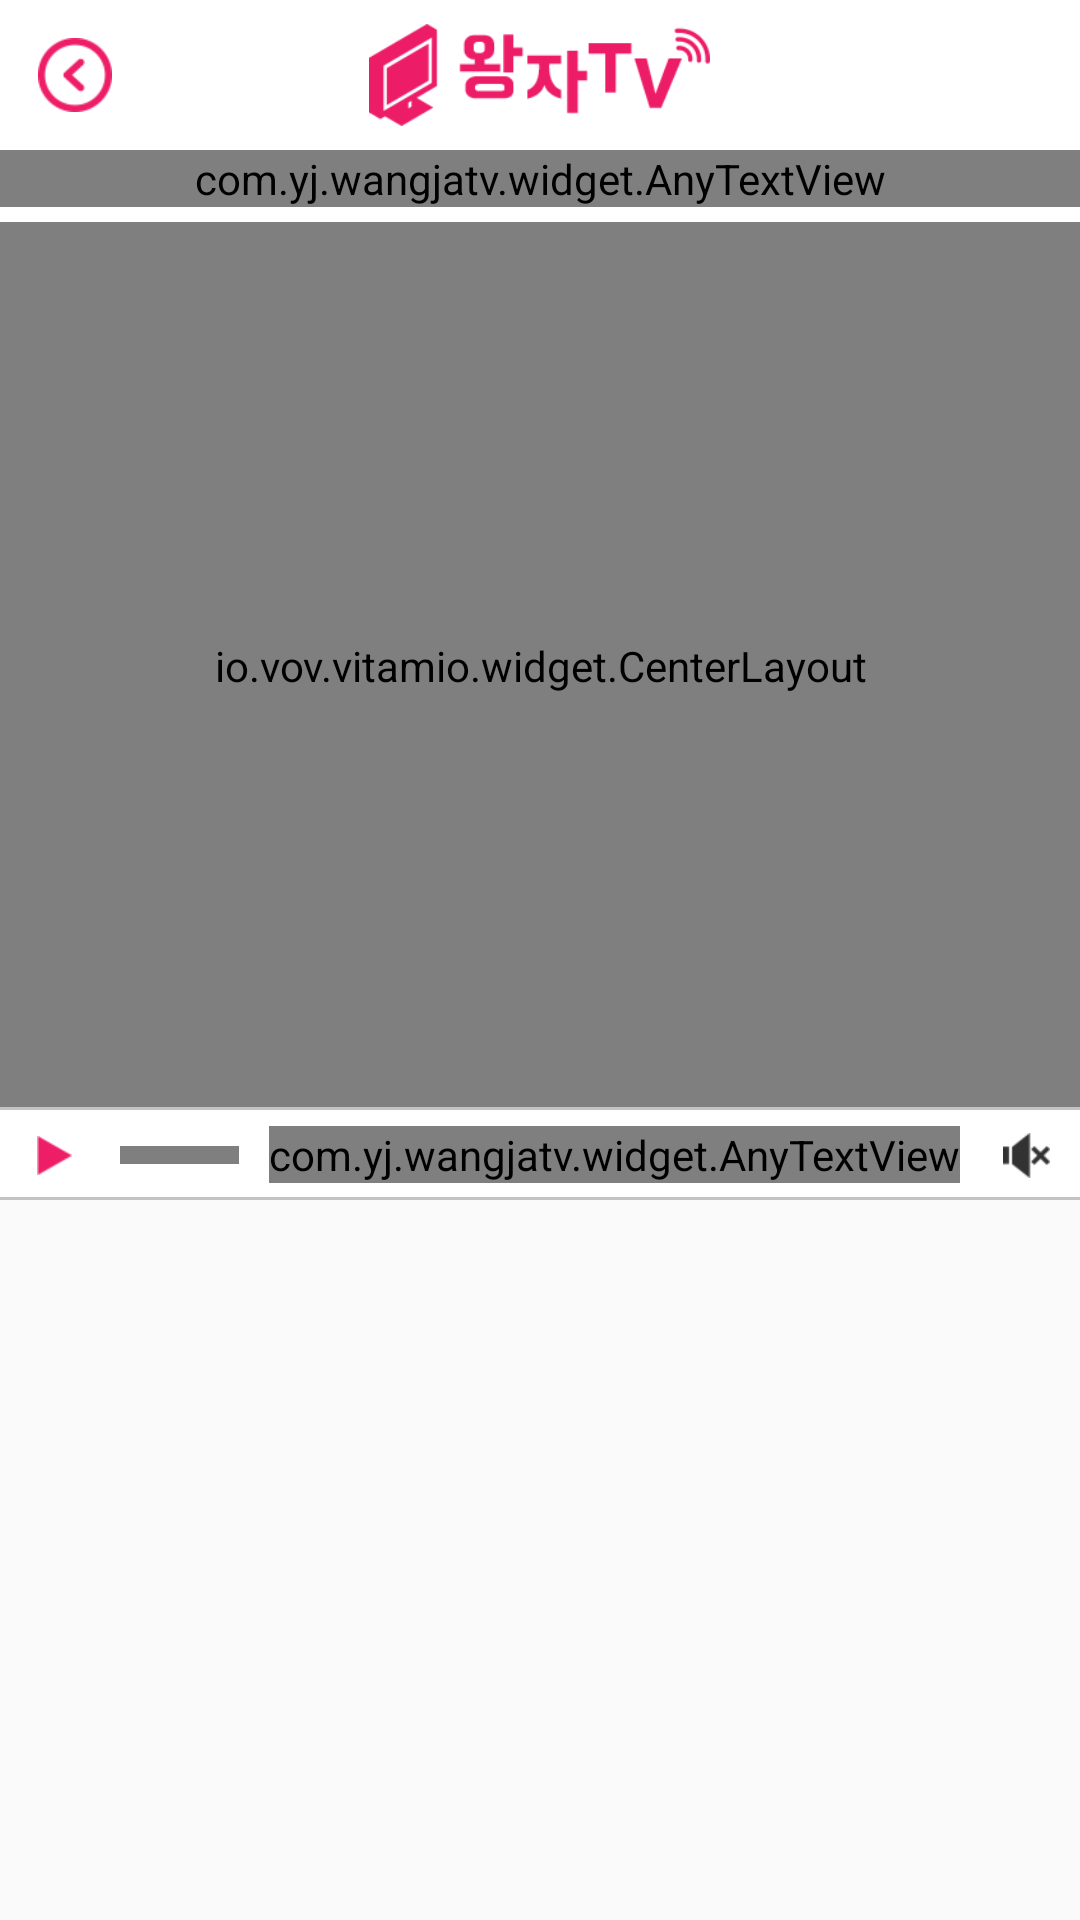

Icons on this 1080*1920 Android screen, each with the point to tap as point (x, y):
back on: point (75, 75)
play: point (54, 1155)
sound on off: point (1026, 1155)
